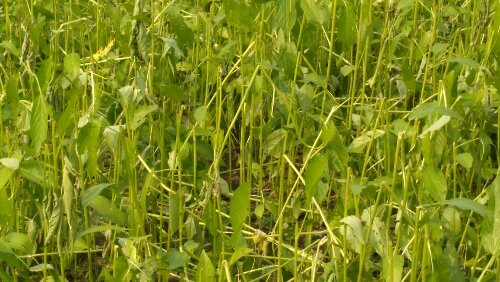damaged_jute: (2, 9, 496, 282)
